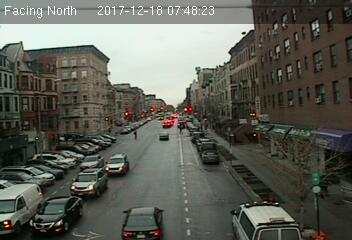car: (27, 197, 85, 235), (120, 204, 167, 240), (70, 167, 109, 201), (105, 152, 130, 177), (78, 154, 104, 172), (203, 150, 219, 164), (158, 132, 171, 142)
police: (230, 198, 306, 240)
